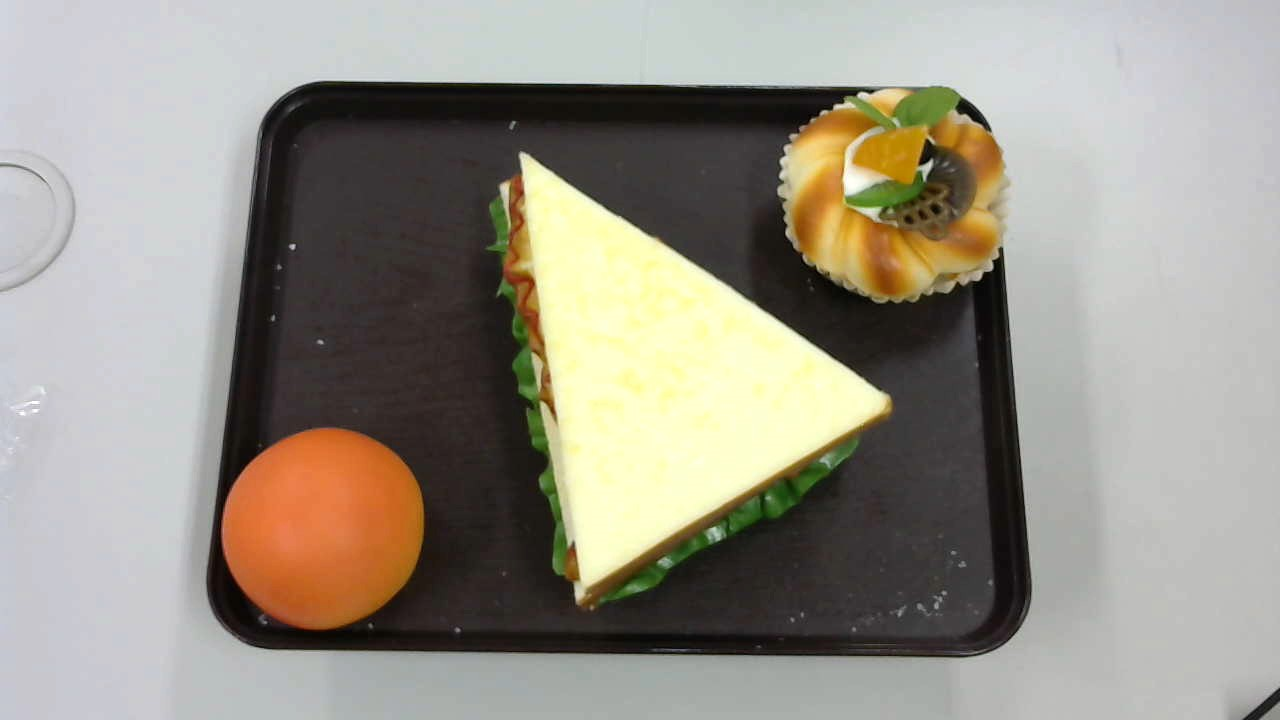bun: (220, 426, 424, 635)
fruit tart: (777, 85, 1013, 305)
sandwich: (484, 152, 894, 617)
